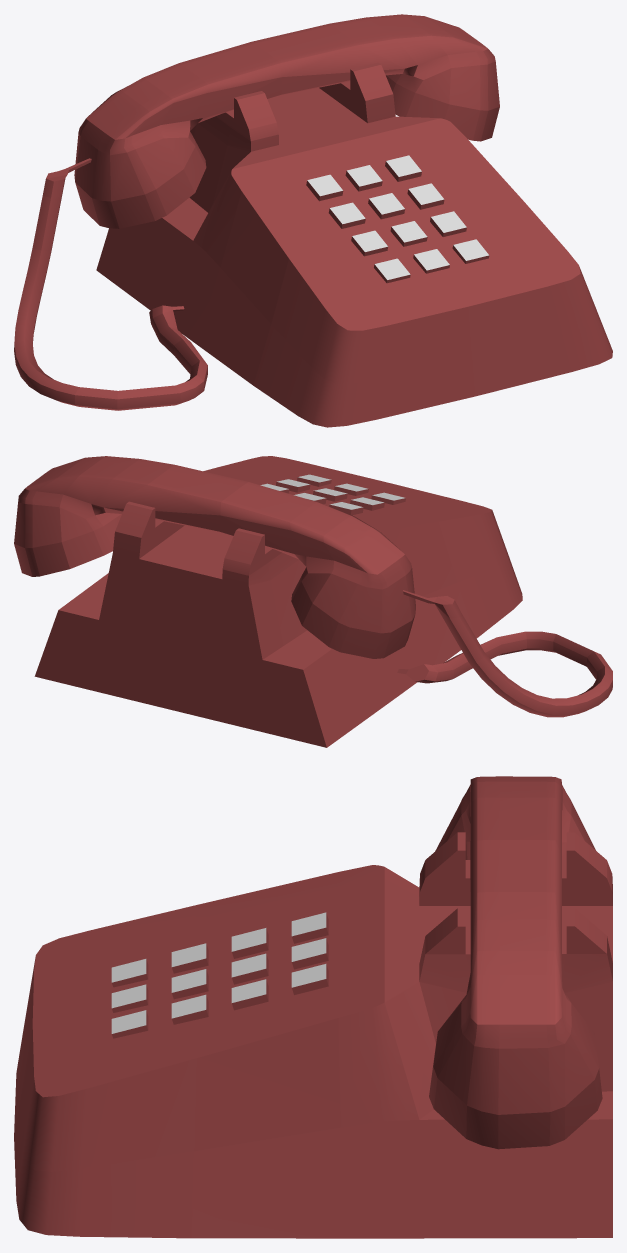
The model's file is boss_phone.fbx.
3 renders of one model, top to bottom at view 1: azimuth 30°, elevation 25°; view 2: azimuth 150°, elevation 25°; view 3: azimuth 270°, elevation 25°, orthographic. The views are drawn at different scales.
Parts seen in each view (by area): view 1: phone; view 2: phone; view 3: phone.
Boxes of the visible parts, x1=… form: phone: x1=14, y1=14, x2=612, y2=427; phone: x1=14, y1=456, x2=612, y2=747; phone: x1=14, y1=776, x2=612, y2=1238.
Bounding box in the file's own units: 6.4 × 2.43 × 4.65.
